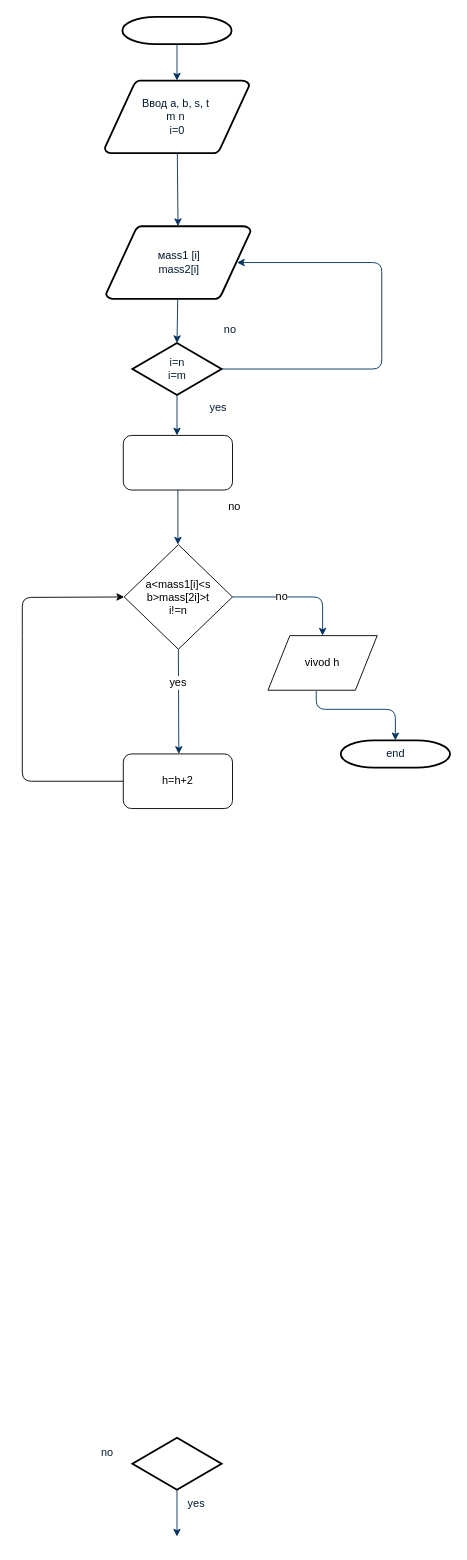
This 467x1560 diagram has some shape labels left out. Here are the shapes that lost their labels. From the top down, the box of each, then its label:
(121, 15, 232, 45): start
(122, 435, 233, 490): i=0
(131, 1436, 222, 1490): project complete?
